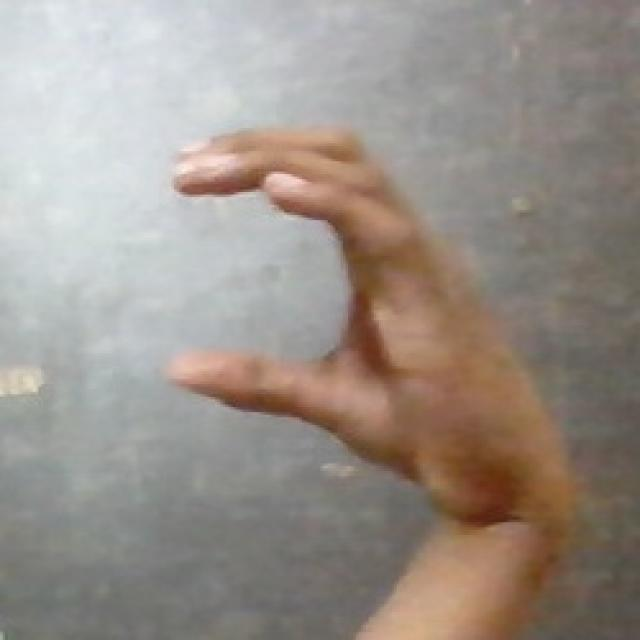Alphabet-C: (157, 100, 542, 474)
